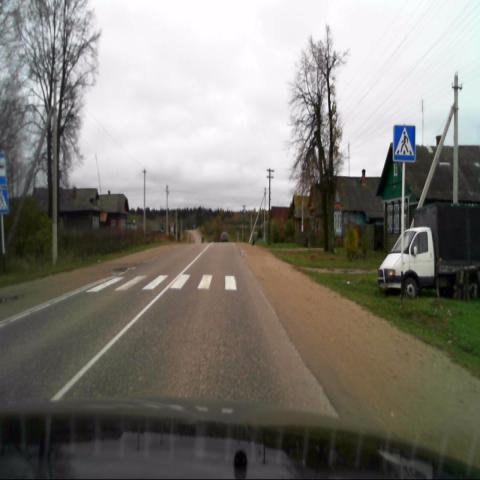5_19_1: (393, 125, 415, 162)
